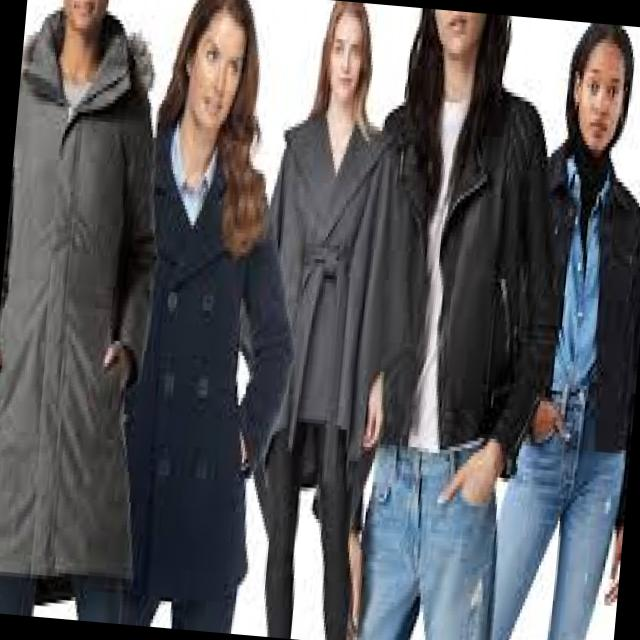Jacket: (92, 112, 310, 610), (337, 79, 564, 510)
